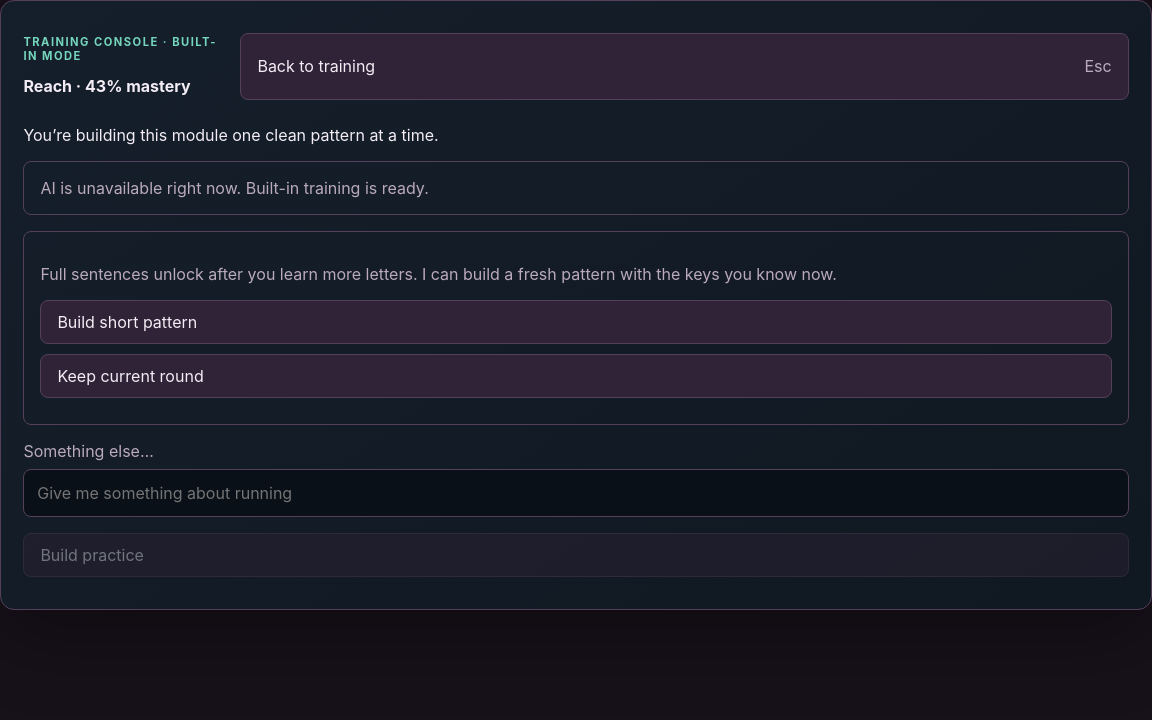
Test: Coach custom practice regression › shows an actionable error instead of a silent no-op
The width and height of the screenshot is (1152, 720).
Type "longer paragraph" into the field with placeholder "Give me something about running".
click(576, 493); type("longer paragraph")  # box [23, 469, 1129, 517]
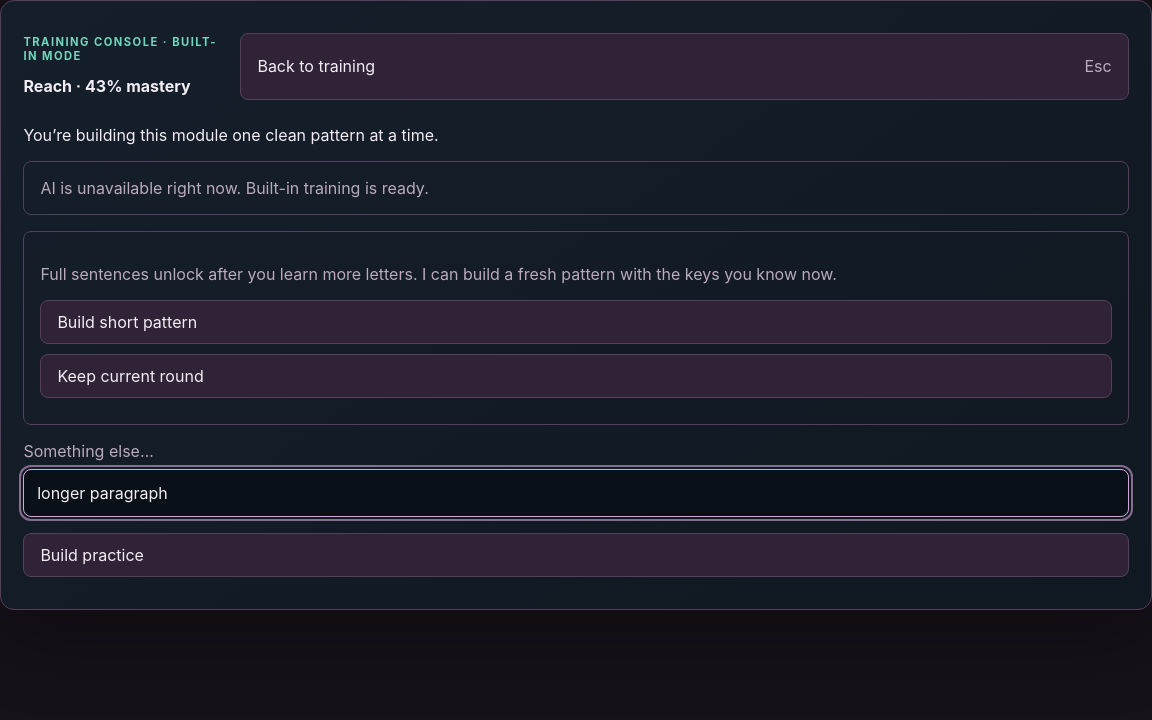
Click the button "Build practice".
click(92, 555)  # box [23, 533, 1129, 577]
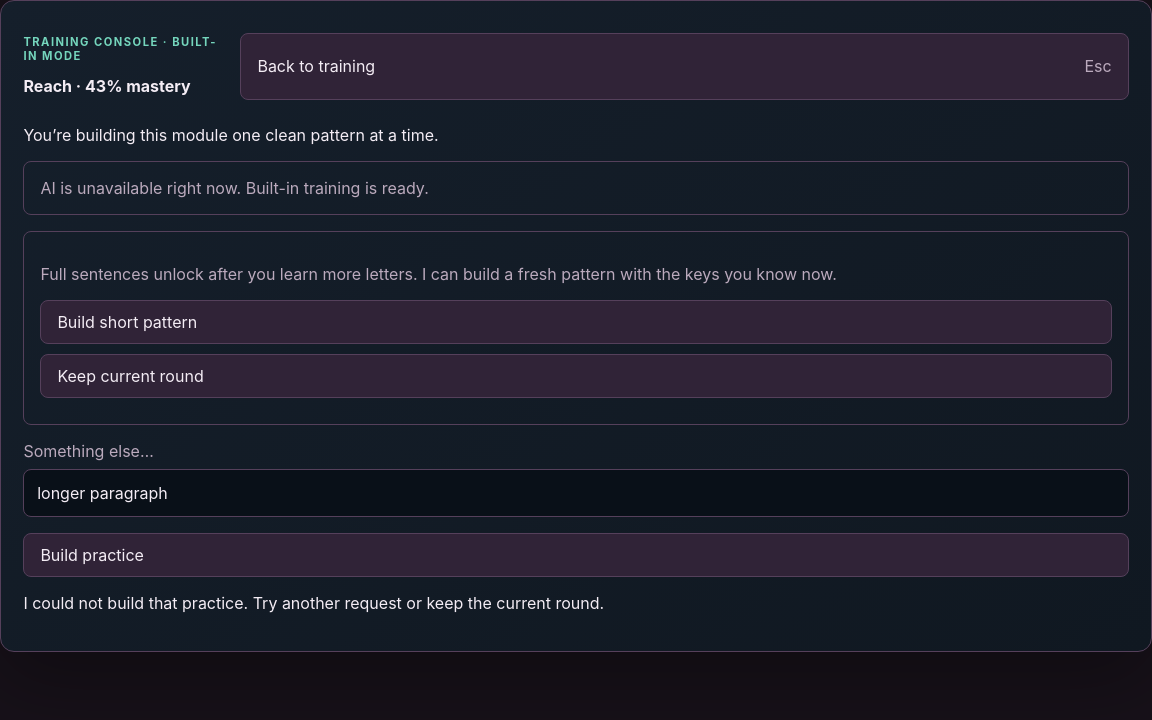
Expected: the text "could not build that practice" is shown, [23, 593, 604, 613]
